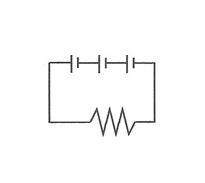resistor: (81, 100, 141, 138)
